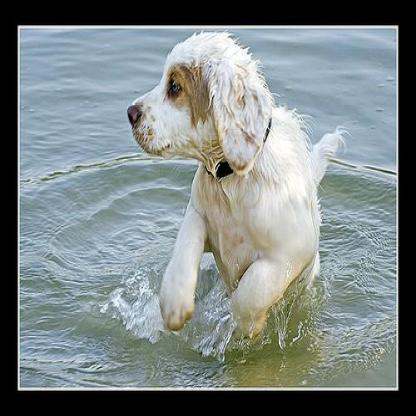clumber: (125, 27, 350, 352)
